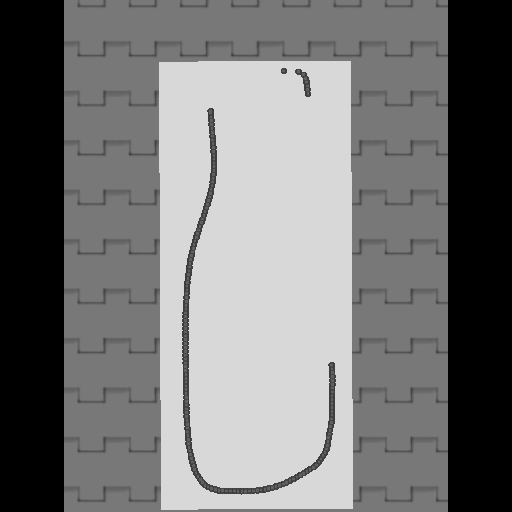Defect: (296, 98, 341, 365)
